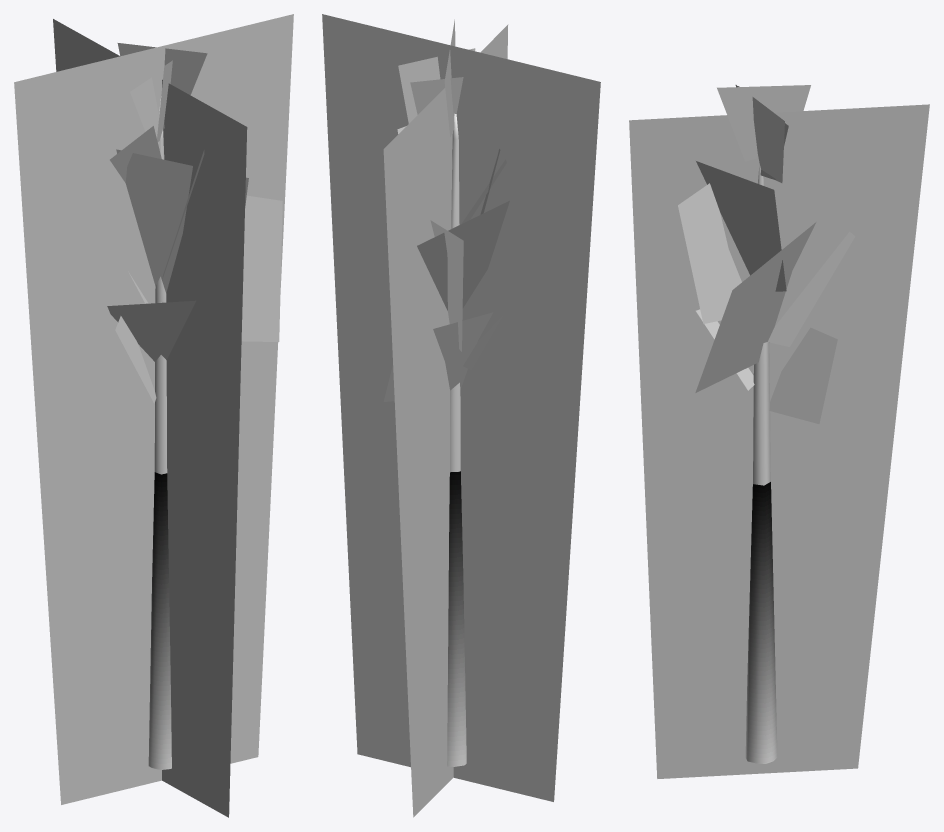
The model's file is pine_tree_mesh_1.fbx.
3 renders of one model, left to right at view 1: azimuth 30°, elevation 25°; view 2: azimuth 150°, elevation 25°; view 3: azimuth 270°, elevation 25°, orthographic. The views are drawn at different scales.
Visible parts, largest first — view 1: Cylinder.000; view 2: Cylinder.000; view 3: Cylinder.000.
Part boxes in pixels (<box>): Cylinder.000: <box>14,14,293,817</box>; Cylinder.000: <box>322,14,600,817</box>; Cylinder.000: <box>629,85,929,778</box>.
Bounding box in the file's own units: 772 × 1949 × 764.
